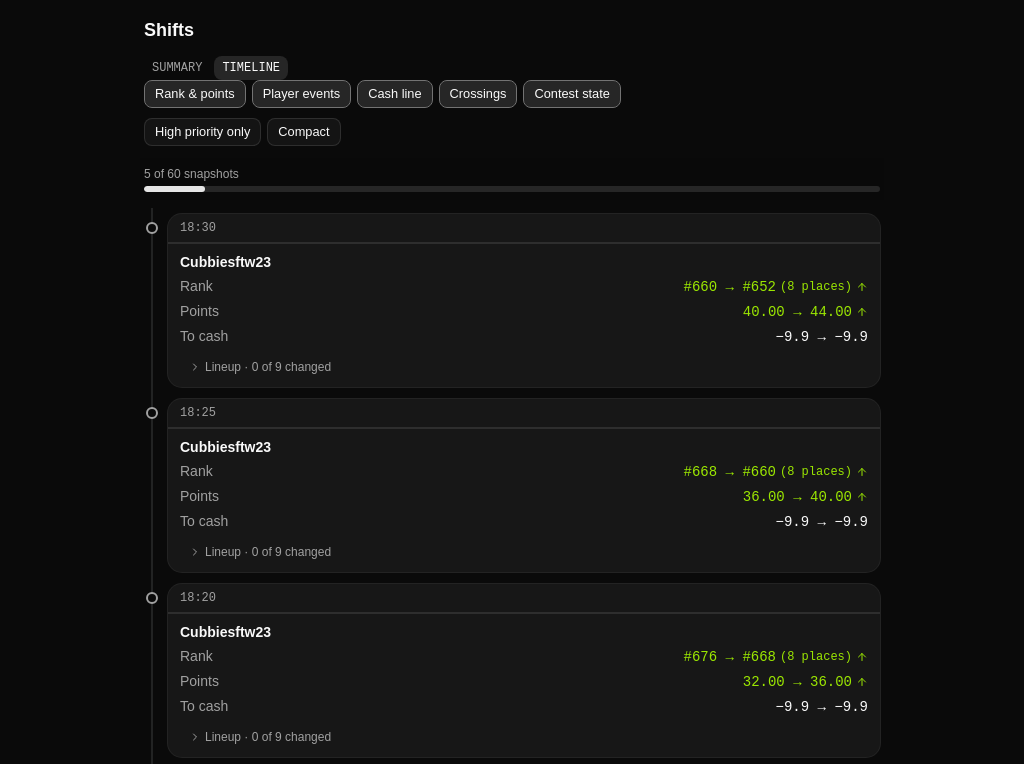
Test: the Timeline tab › shows the figures that moved and a collapsed lineup diff that expands
Expected: the element "Rank" shows "→", [717,279,742,295]
Click the button "Lineup · 0 of 9 changed" below "44.00": (228, 367) [180,355,868,379]
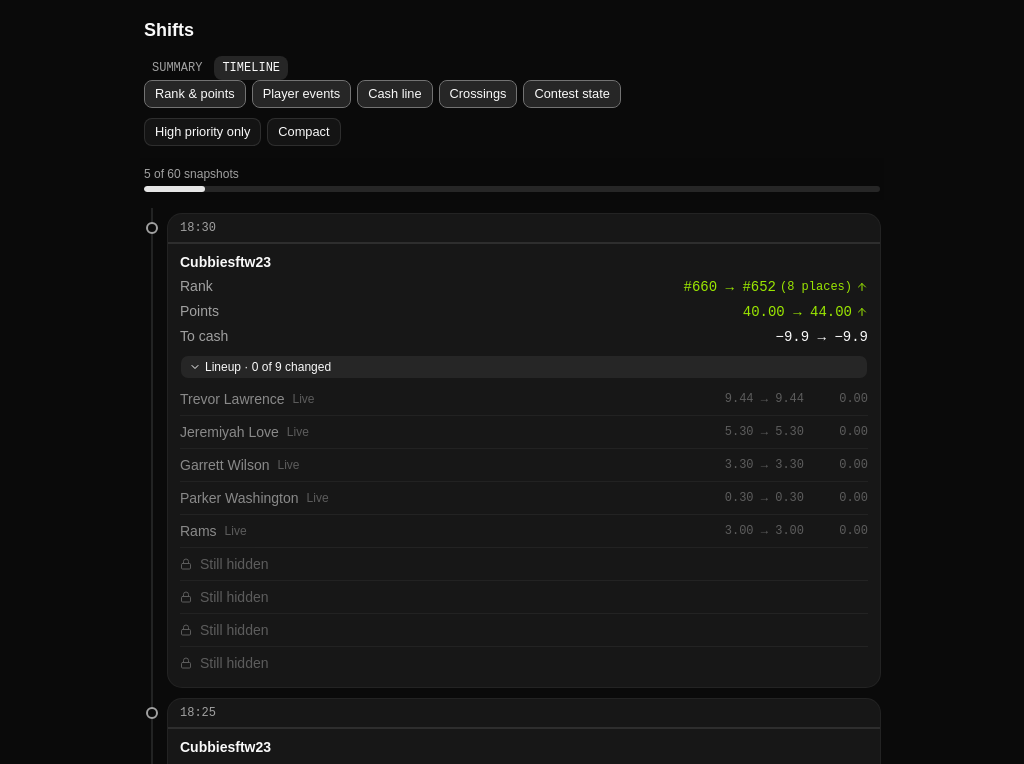
Result: the button "Lineup · 0 of 9 changed" is expanded at [180,355,868,379]
